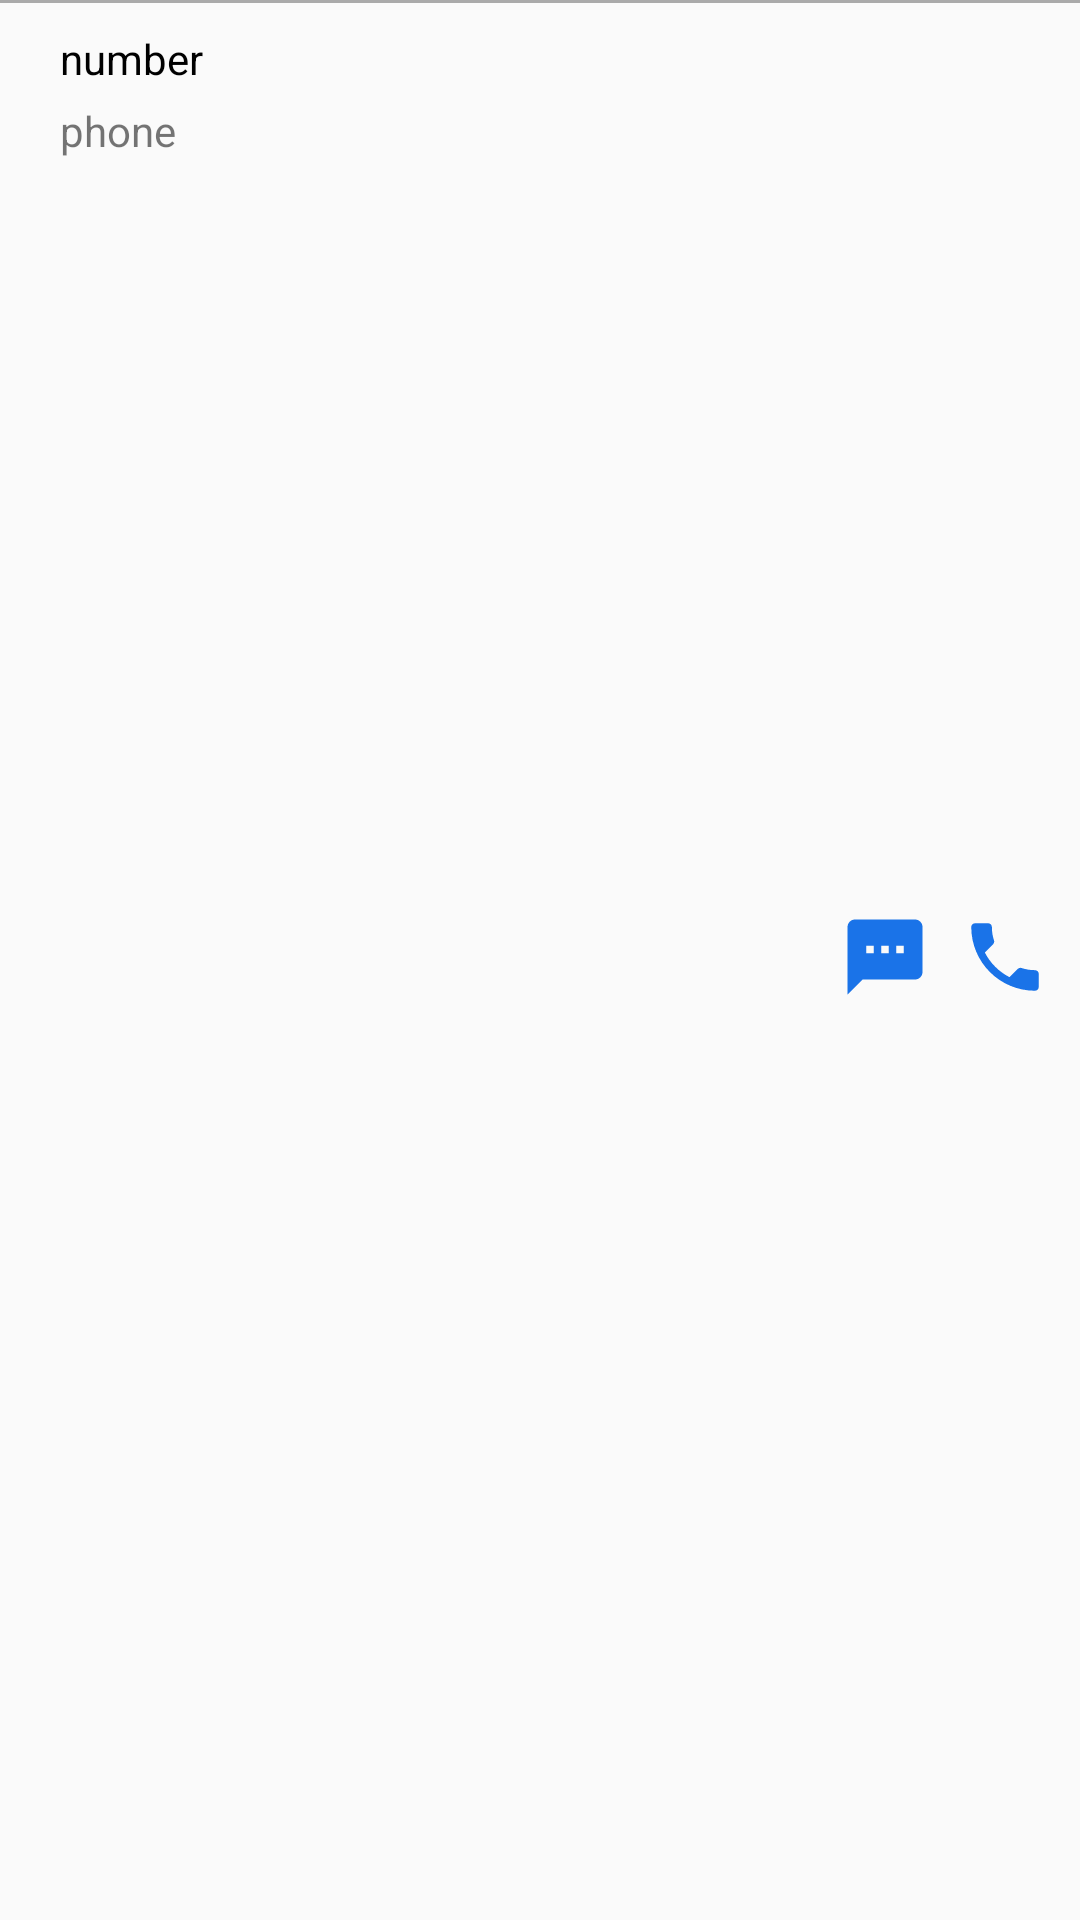

Icons on this 1080px x 1920px Android screen, each with its box as (x1, y1, x2, y2):
call: (971, 923, 1039, 991)
textsms: (847, 919, 923, 995)
